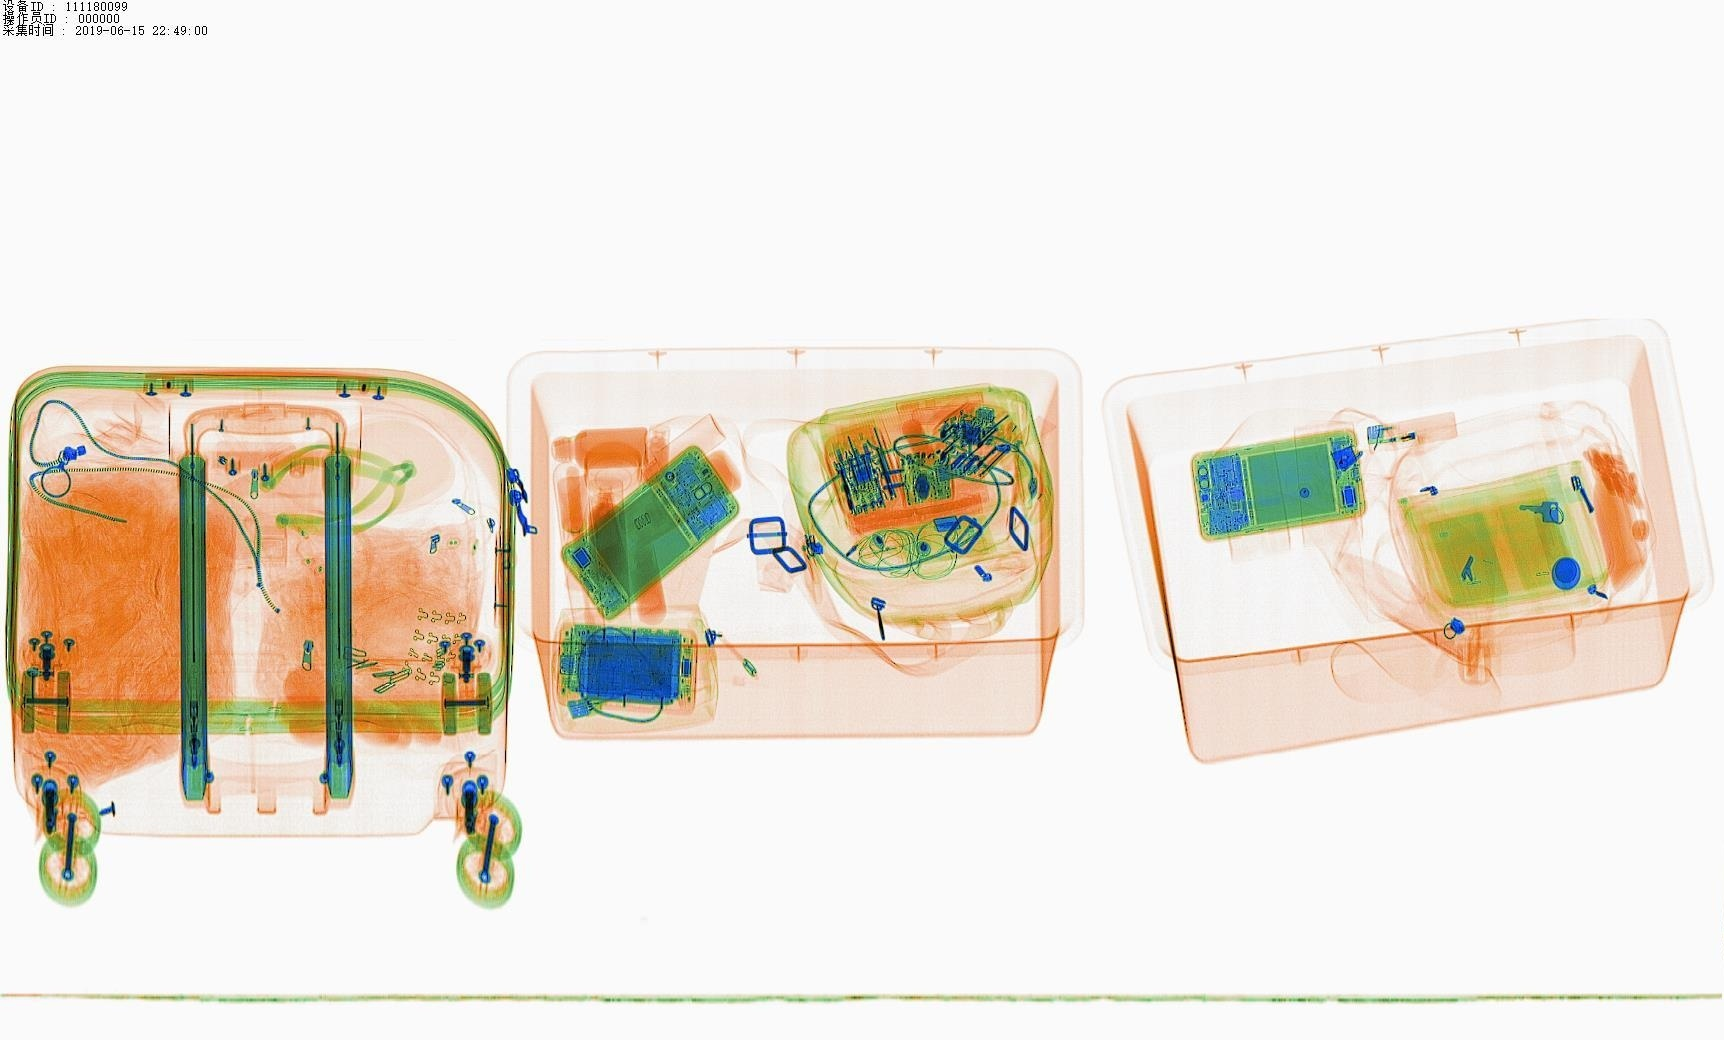NonmetallicFire: (1350, 400, 1465, 460)
